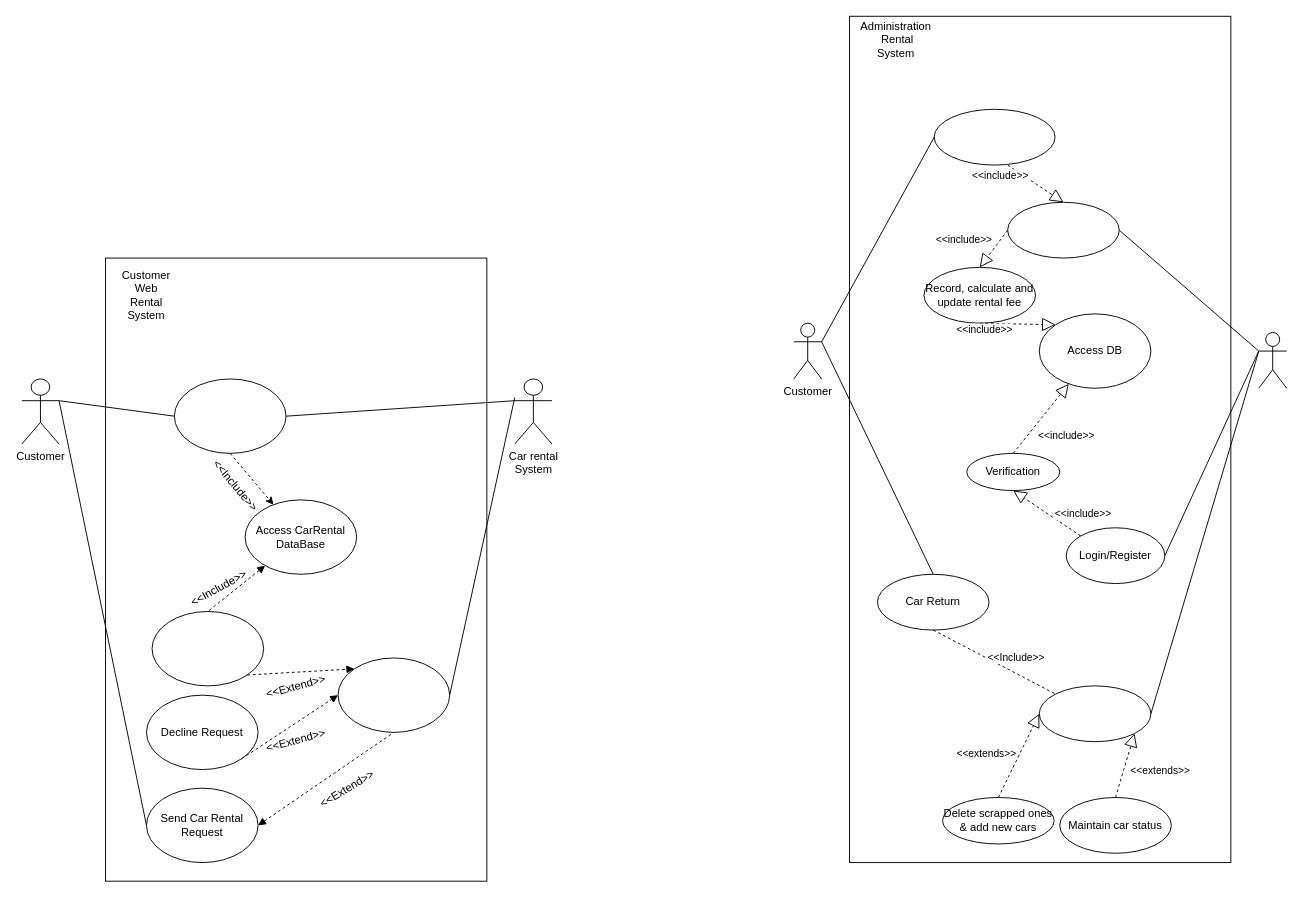
Some shapes in this 1306 by 897 pixel diagram are drawn without their labels. The centre of each missing label's shape, as x and y in pixels:
"Car Rental Clerk" goes at pixel 1272 360.
"Evaluate damage status" goes at pixel 1094 713.
"Get Car" goes at pixel 994 136.
"Look For Avaliable Cars" goes at pixel 229 415.
"Recieve Rental Request" goes at pixel 393 694.
"Record rented cars" goes at pixel 1063 229.
"Reserve Car (DB Modification)" goes at pixel 207 648.
